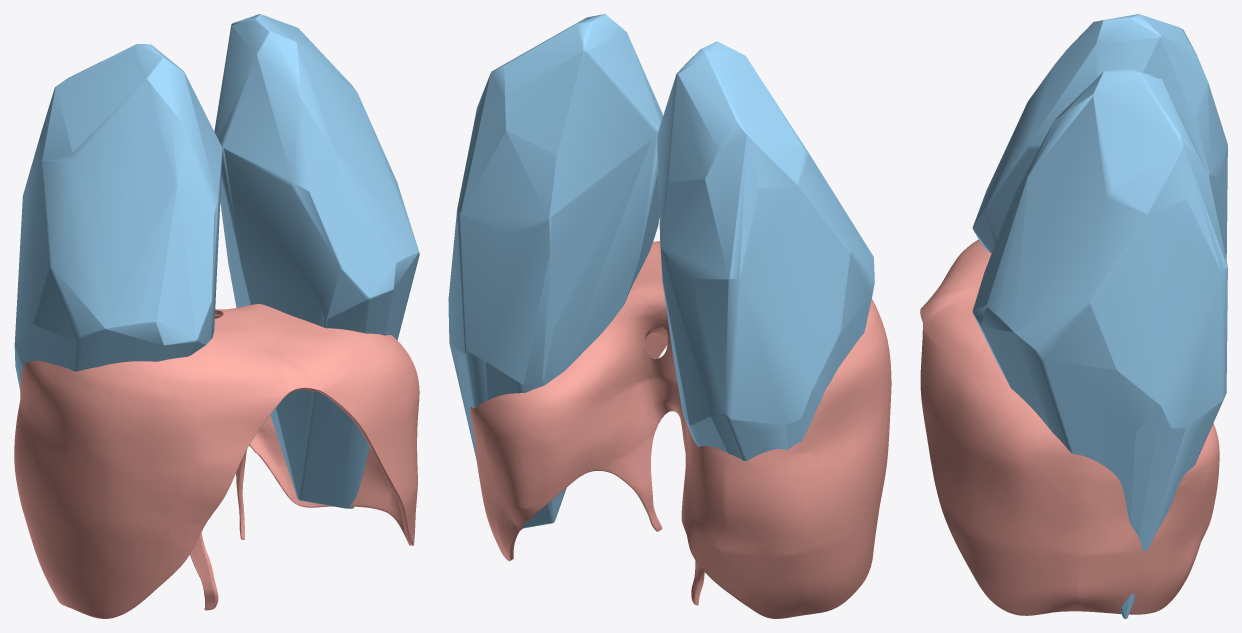
File: lungs_mni.glb
3 renders of one model, left to right at view 1: azimuth 30°, elevation 25°; view 2: azimuth 150°, elevation 25°; view 3: azimuth 270°, elevation 25°, orthographic. The views are drawn at different scales.
Visible parts, largest first — view 1: diaphragm, lung_R, lung_L; view 2: diaphragm, lung_R, lung_L; view 3: lung_L, diaphragm, lung_R.
Boxes of the visible parts, left/top/right/bottom form: diaphragm: left=14, top=304, right=419, bottom=618; lung_R: left=14, top=44, right=222, bottom=390; lung_L: left=214, top=14, right=419, bottom=508; diaphragm: left=470, top=241, right=891, bottom=618; lung_R: left=657, top=41, right=874, bottom=460; lung_L: left=448, top=14, right=662, bottom=528; lung_L: left=972, top=68, right=1227, bottom=618; diaphragm: left=920, top=239, right=1219, bottom=615; lung_R: left=972, top=14, right=1227, bottom=260.
Bounding box in the file's own units: 4.96 × 7.24 × 3.69.
